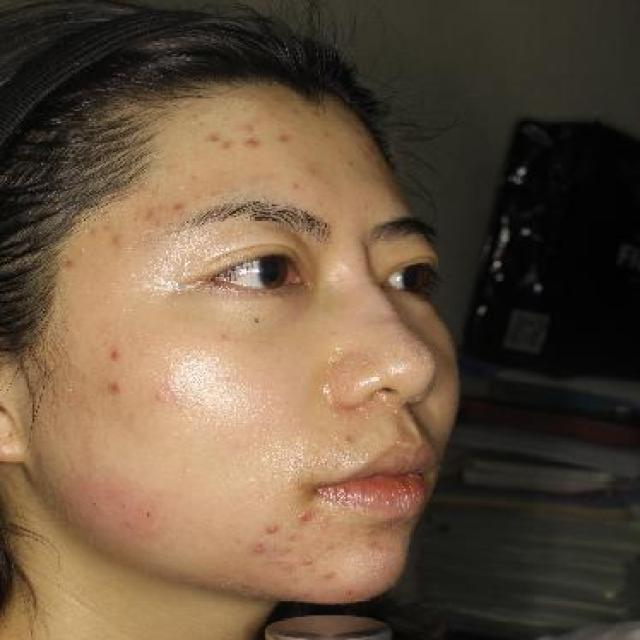blackheads: (142, 505, 157, 526)
dark spot: (212, 136, 243, 156), (103, 340, 125, 368), (106, 377, 125, 400), (202, 126, 219, 145)
papules: (293, 502, 318, 526), (247, 538, 272, 562), (264, 517, 280, 538)
